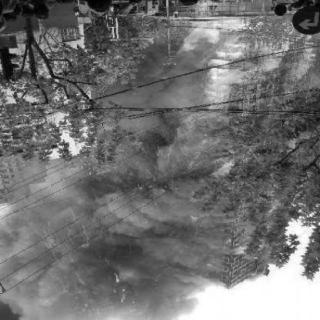Fire: (190, 144, 234, 178)
